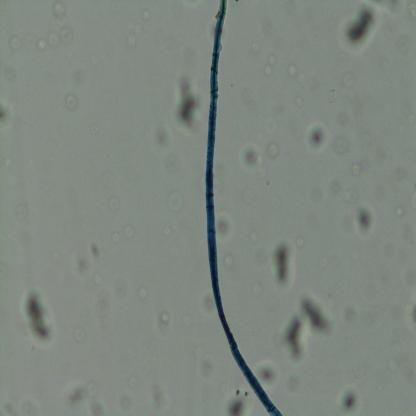Background material: (278, 295, 336, 360), (336, 1, 378, 61), (22, 287, 57, 348), (172, 71, 202, 137), (328, 100, 355, 160), (380, 327, 408, 383), (269, 236, 296, 293), (116, 17, 148, 51), (35, 26, 74, 53), (95, 157, 116, 205), (62, 377, 88, 413), (353, 201, 378, 235), (338, 381, 363, 415), (304, 122, 330, 154), (239, 144, 264, 174), (257, 358, 282, 388), (228, 387, 252, 416), (17, 385, 41, 413), (215, 212, 235, 244), (259, 109, 282, 136), (69, 323, 88, 347), (52, 2, 68, 26), (166, 191, 184, 212), (0, 101, 12, 132), (86, 237, 102, 260), (264, 52, 278, 78), (155, 312, 170, 336), (153, 127, 168, 149), (294, 228, 310, 248), (284, 374, 300, 394), (222, 250, 235, 271), (121, 224, 136, 241), (265, 141, 279, 159), (407, 304, 416, 332), (295, 92, 308, 111), (136, 284, 149, 301), (326, 88, 339, 105), (350, 161, 362, 179), (64, 95, 78, 110), (287, 64, 297, 78), (140, 8, 150, 21)
Cotton: (203, 0, 283, 416)
